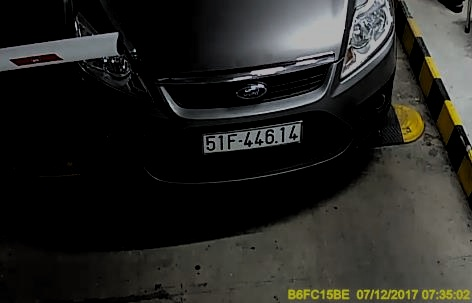plate: (197, 119, 312, 153)
